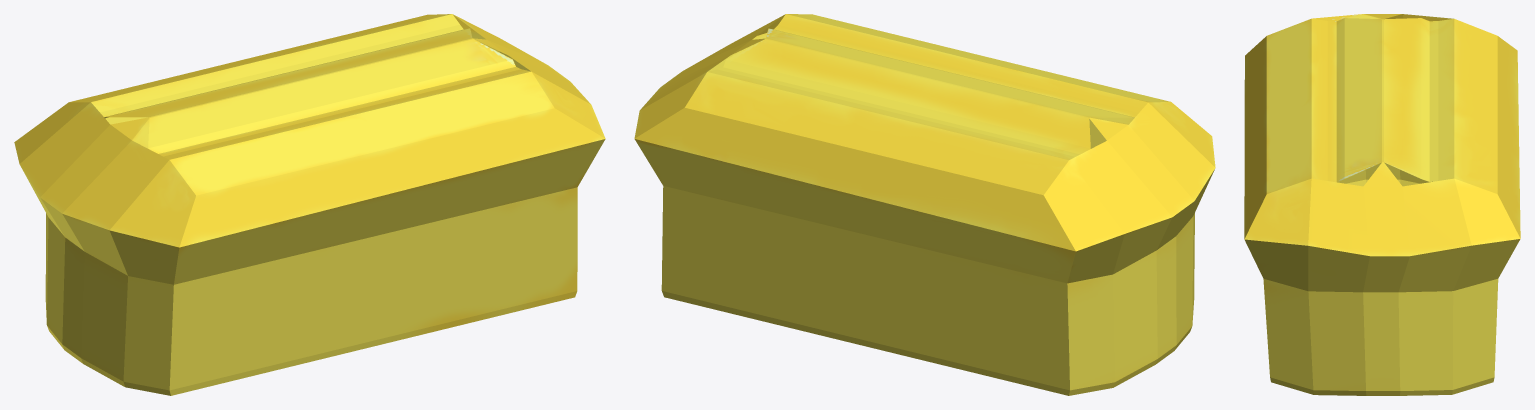
Rendered from breadLoaf1.fbx.
3 renders of one model, left to right at view 1: azimuth 30°, elevation 25°; view 2: azimuth 150°, elevation 25°; view 3: azimuth 270°, elevation 25°, orthographic. The views are drawn at different scales.
Visible parts, largest first — view 1: Cube; view 2: Cube; view 3: Cube.
Part boxes in pixels (left/top/right/bottom): Cube: left=14, top=14, right=605, bottom=395; Cube: left=634, top=14, right=1215, bottom=395; Cube: left=1244, top=14, right=1520, bottom=395.
Bounding box in the file's own units: 556 × 238 × 288.
Materials: 1 (1 with a texture image).
